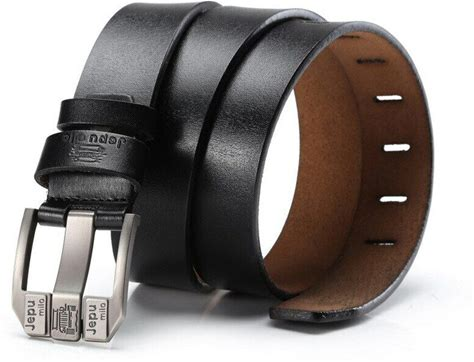cuero: (36, 2, 433, 322)
